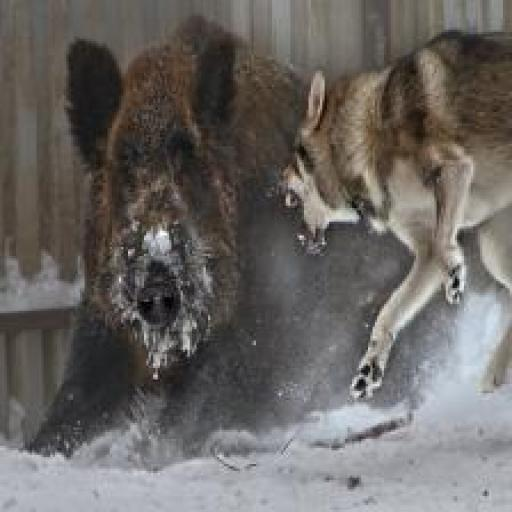Pig: (25, 16, 512, 470)
